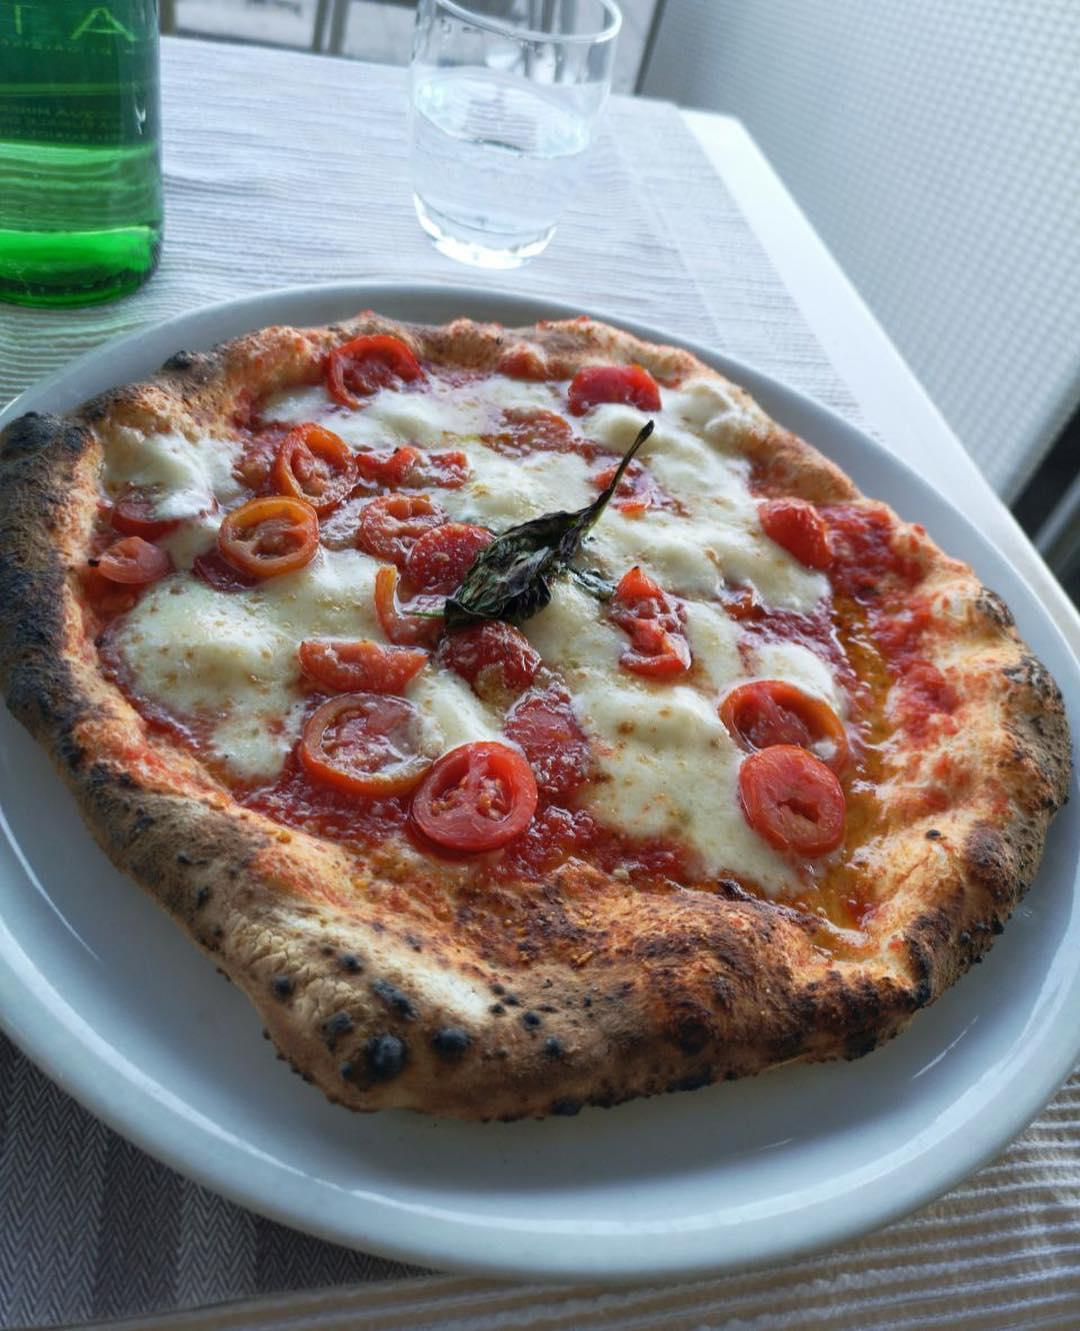Basil: (442, 512, 594, 616)
Pizza: (0, 316, 1080, 1110)
Tomatoes: (295, 692, 450, 799), (736, 742, 850, 861), (414, 740, 536, 852), (722, 680, 850, 775), (615, 563, 694, 678), (229, 497, 321, 577), (326, 335, 418, 412), (277, 424, 356, 511), (304, 632, 422, 691), (374, 563, 442, 647), (108, 489, 222, 534), (88, 534, 174, 586)
